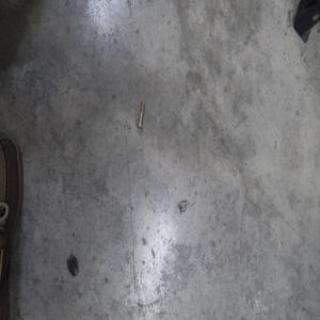Bolttrack_idkeyframe: (135, 101, 145, 130)
